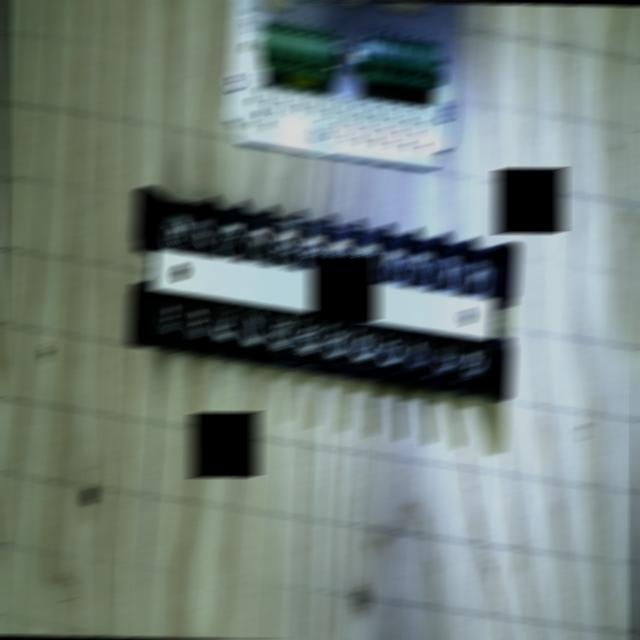Flathead_Block: (113, 188, 531, 398)
Terminal_1: (254, 19, 344, 79), (357, 32, 442, 85)
